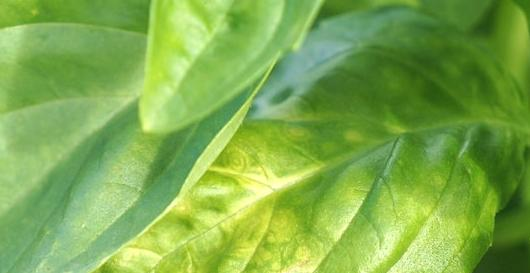Tomato leaf: (26, 11, 530, 273), (0, 0, 228, 273)
